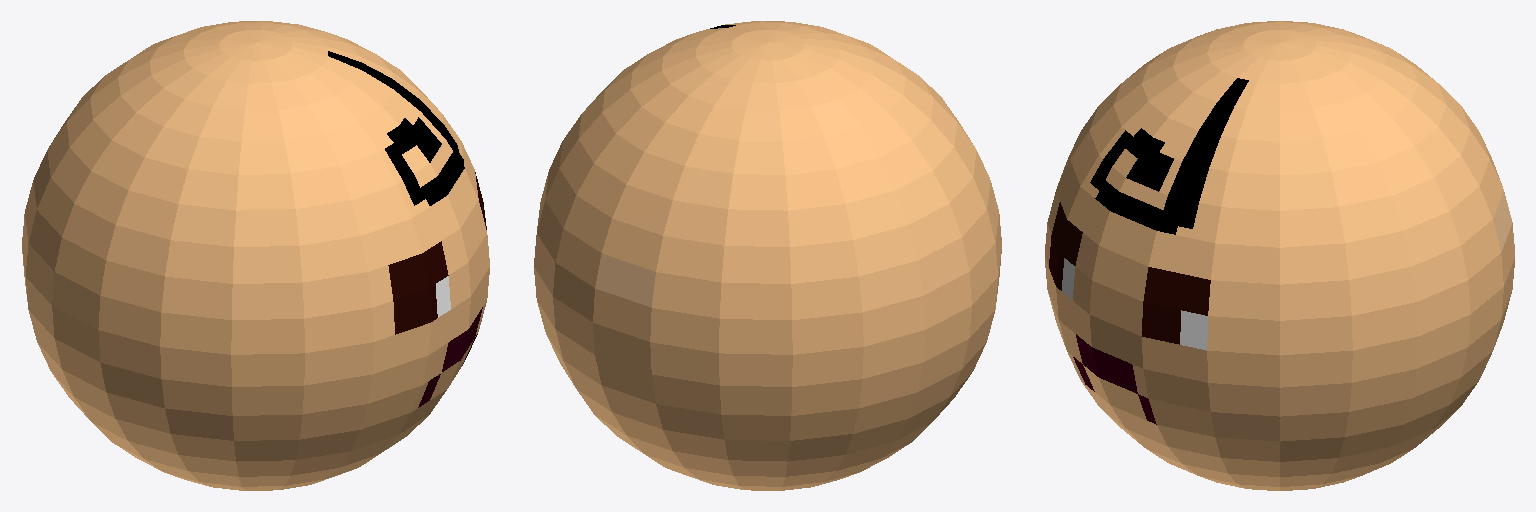
The model's file is bebe2.obj.
3 renders of one model, left to right at view 1: azimuth 30°, elevation 25°; view 2: azimuth 150°, elevation 25°; view 3: azimuth 270°, elevation 25°, orthographic.
Visible parts, largest first — view 1: pSphere1; view 2: pSphere1; view 3: pSphere1.
Boxes of the visible parts, <box> form: pSphere1: <box>22,21,489,490</box>; pSphere1: <box>534,21,1001,490</box>; pSphere1: <box>1045,21,1514,490</box>.
Size of the model in its own units: 3.05 by 3.05 by 3.05.